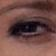eye: (22, 24, 36, 33)
